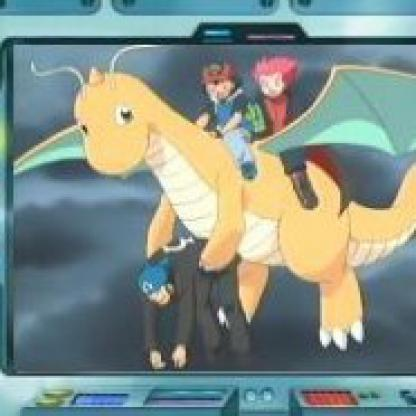Dragonite: (23, 50, 415, 366)
